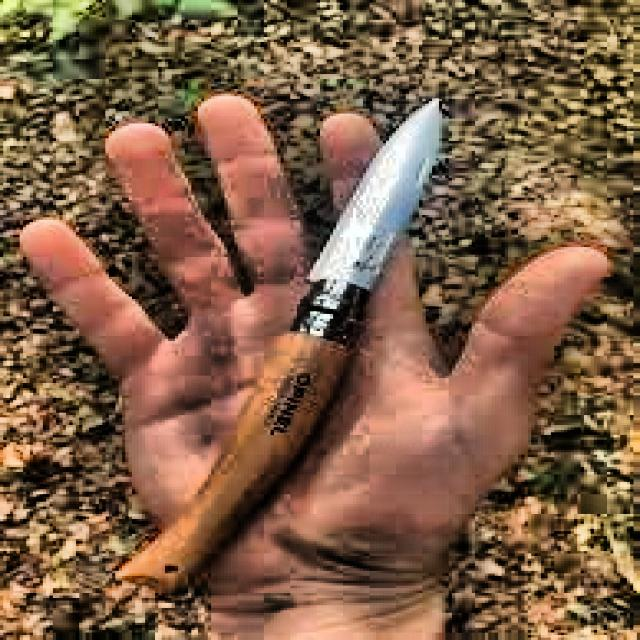knife: (117, 101, 438, 598)
